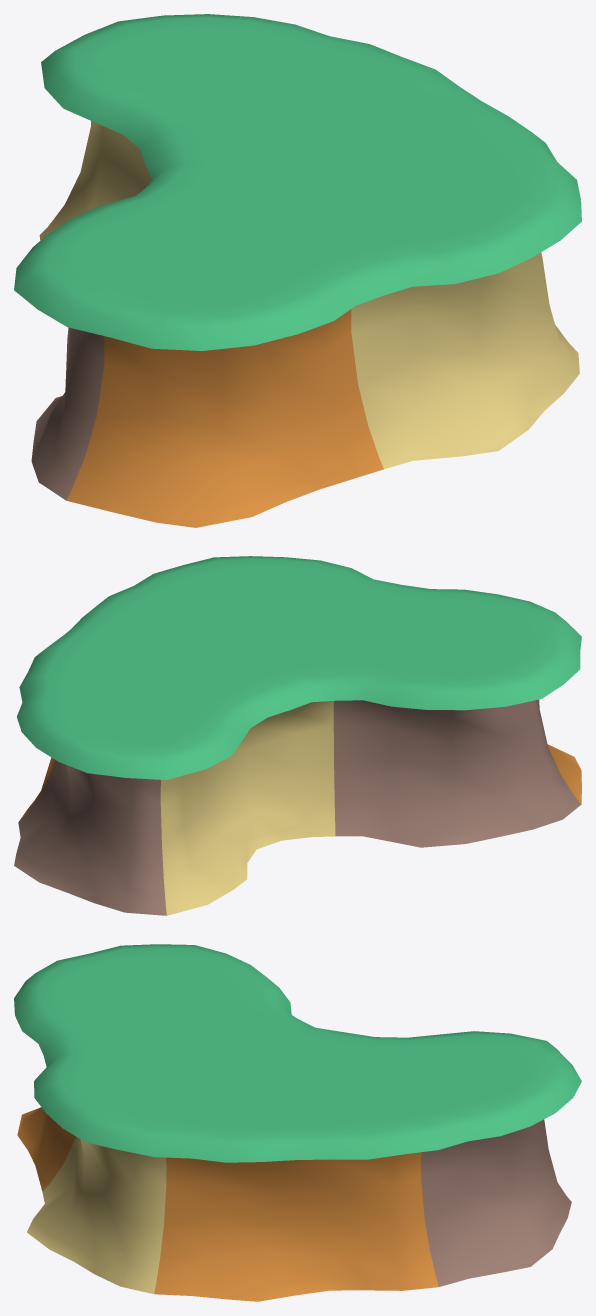
The model's file is Mod_A3_LM1.fbx.
The picture shows the model from 3 angles, top to bottom: view 1: azimuth 30°, elevation 25°; view 2: azimuth 150°, elevation 25°; view 3: azimuth 270°, elevation 25°; orthographic projection. The views are drawn at different scales.
Visible parts, largest first — view 1: Mod_A3_LM; view 2: Mod_A3_LM; view 3: Mod_A3_LM.
Boxes of the visible parts, box(x1,y1,x2,y2) form: Mod_A3_LM: box(14, 14, 581, 527); Mod_A3_LM: box(14, 556, 581, 915); Mod_A3_LM: box(14, 944, 581, 1301).
Size of the model in its own units: 1353 by 442 by 1510.
